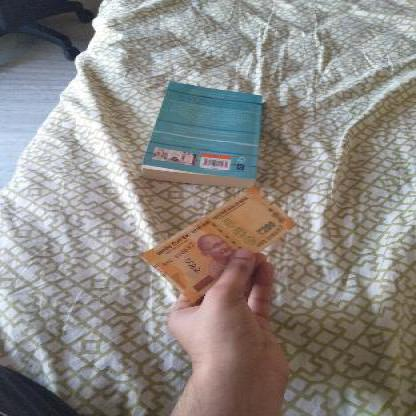New200Front: (140, 186, 292, 302)
